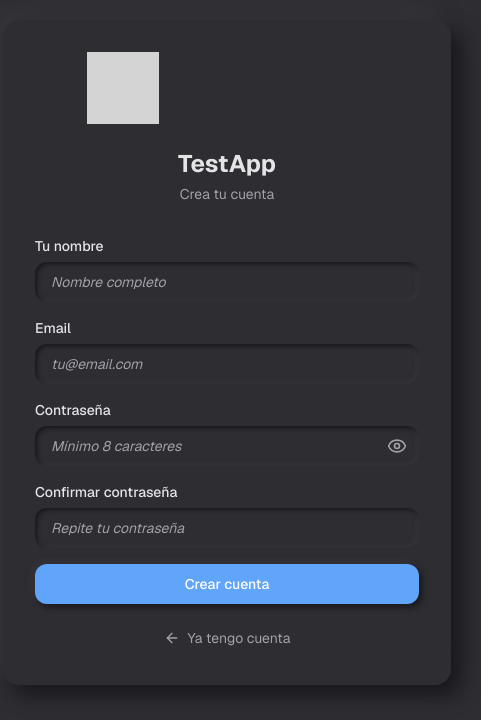
it: <RegisterForm /> › client validation › rejects mismatched password + confirm
Type "Jane Doe" into the field labelled "Tu nombre" at (227, 282), box [35,262,419,302]
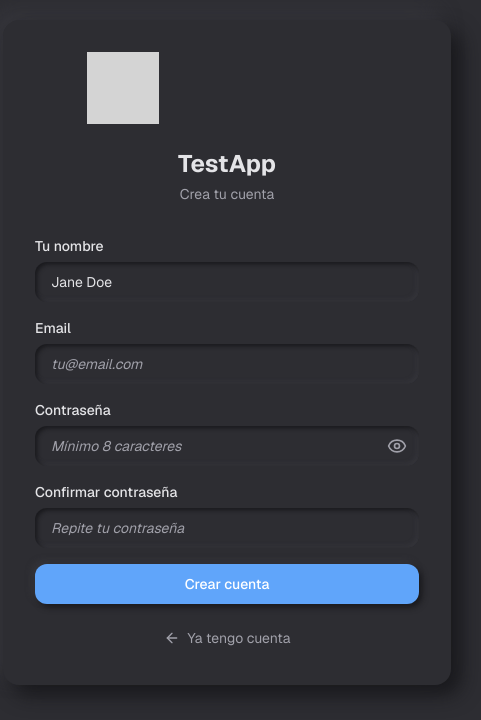
Type "jane@test.com" into the field labelled "Email" at (227, 364), box [35,344,419,384]
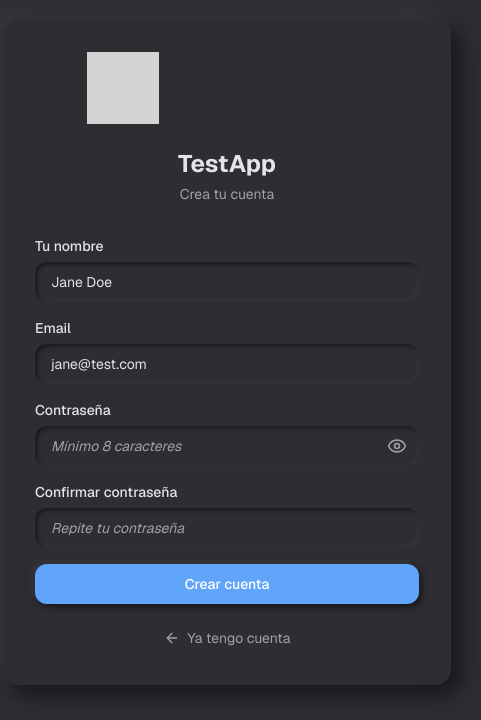
Type "password123" into the password field labelled "Contraseña" at (227, 446), box [35,426,419,466]
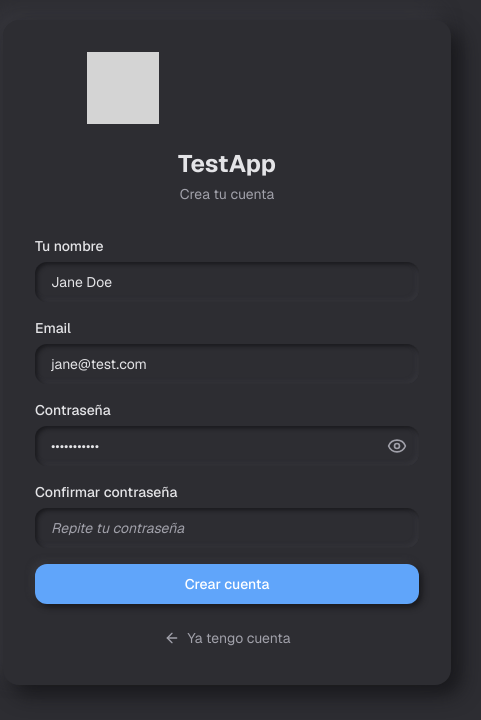
Type "differentpw" into the password field labelled "Confirmar contraseña" at (227, 528), box [35,508,419,548]
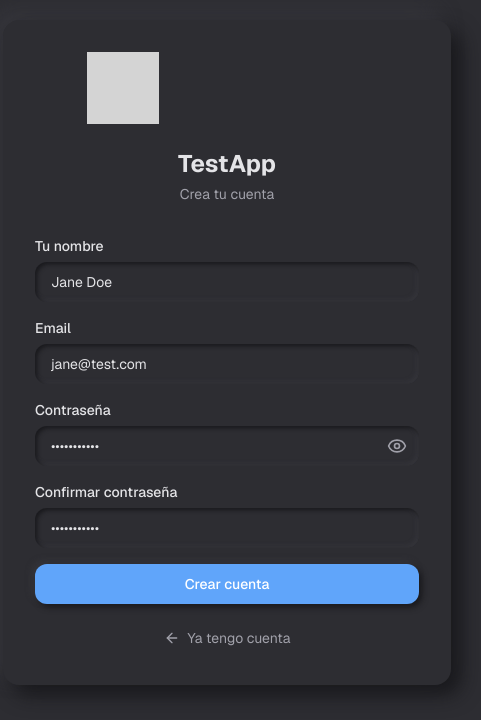
Click the button "Crear cuenta" at (227, 584), box [35,564,419,604]
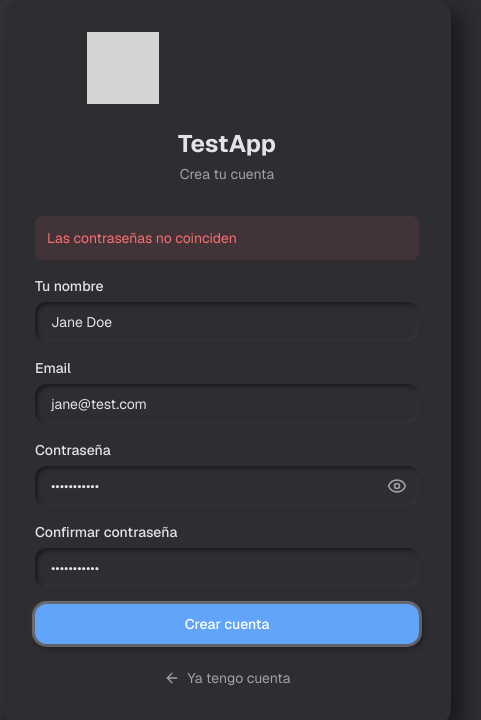
expect the text "Las contraseñas no coinciden" is shown: met, box [35,216,419,260]
